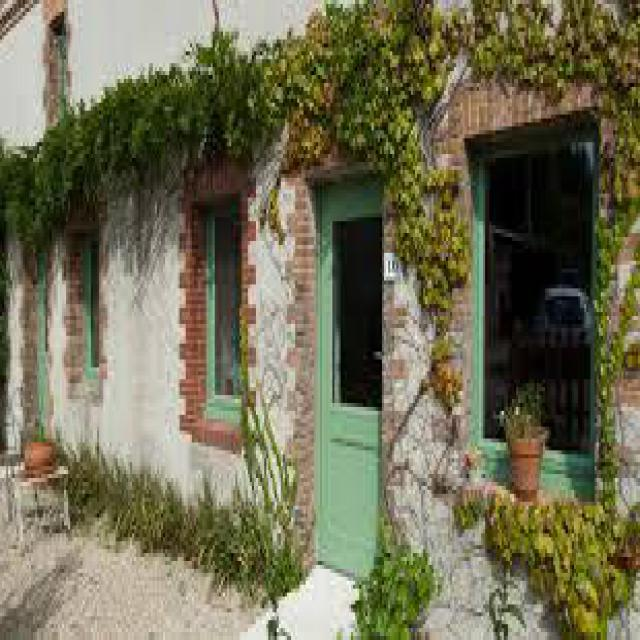close: (302, 150, 404, 616)
